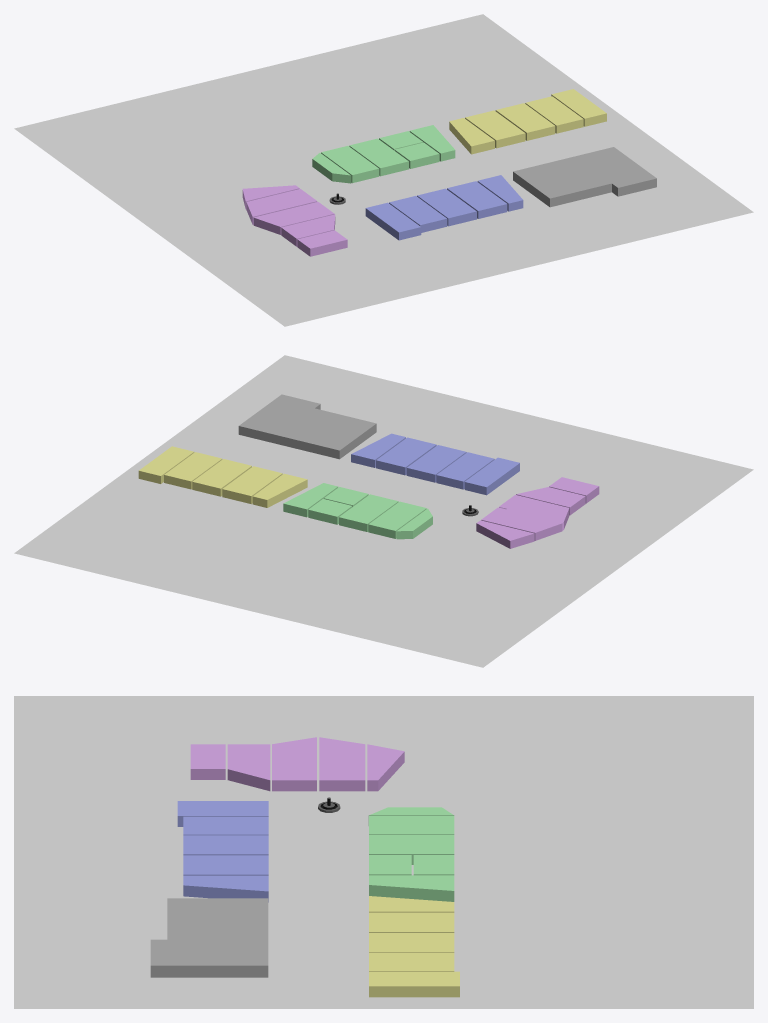
Rendered from MallMap.fbx.
3 renders of one model, top to bottom at view 1: azimuth 30°, elevation 25°; view 2: azimuth 150°, elevation 25°; view 3: azimuth 270°, elevation 25°, orthographic. The views are drawn at different scales.
Visible parts, largest first — view 1: Plane, Asset4, Asset3, Asset5, Asset2, Aseet1; view 2: Plane, Asset3, Asset4, Asset5, Asset2, Aseet1; view 3: Plane, Aseet1, Asset5, Asset3, Asset4, Asset2.
Part boxes in pixels (<box>): Plane: <box>14,14,753,326</box>; Asset4: <box>365,175,523,240</box>; Asset3: <box>449,89,606,154</box>; Asset5: <box>513,147,656,207</box>; Asset2: <box>312,125,455,183</box>; Aseet1: <box>242,185,347,256</box>; Plane: <box>14,355,753,667</box>; Asset3: <box>138,446,307,507</box>; Asset4: <box>351,433,519,495</box>; Asset5: <box>238,394,376,459</box>; Asset2: <box>283,483,432,539</box>; Aseet1: <box>476,477,599,548</box>; Plane: <box>14,696,753,1008</box>; Aseet1: <box>190,737,404,791</box>; Asset5: <box>150,898,268,977</box>; Asset3: <box>369,896,459,997</box>; Asset4: <box>177,801,268,902</box>; Asset2: <box>368,807,454,901</box>.
Size of the model in its own units: 3700 by 66.51 by 3700.
